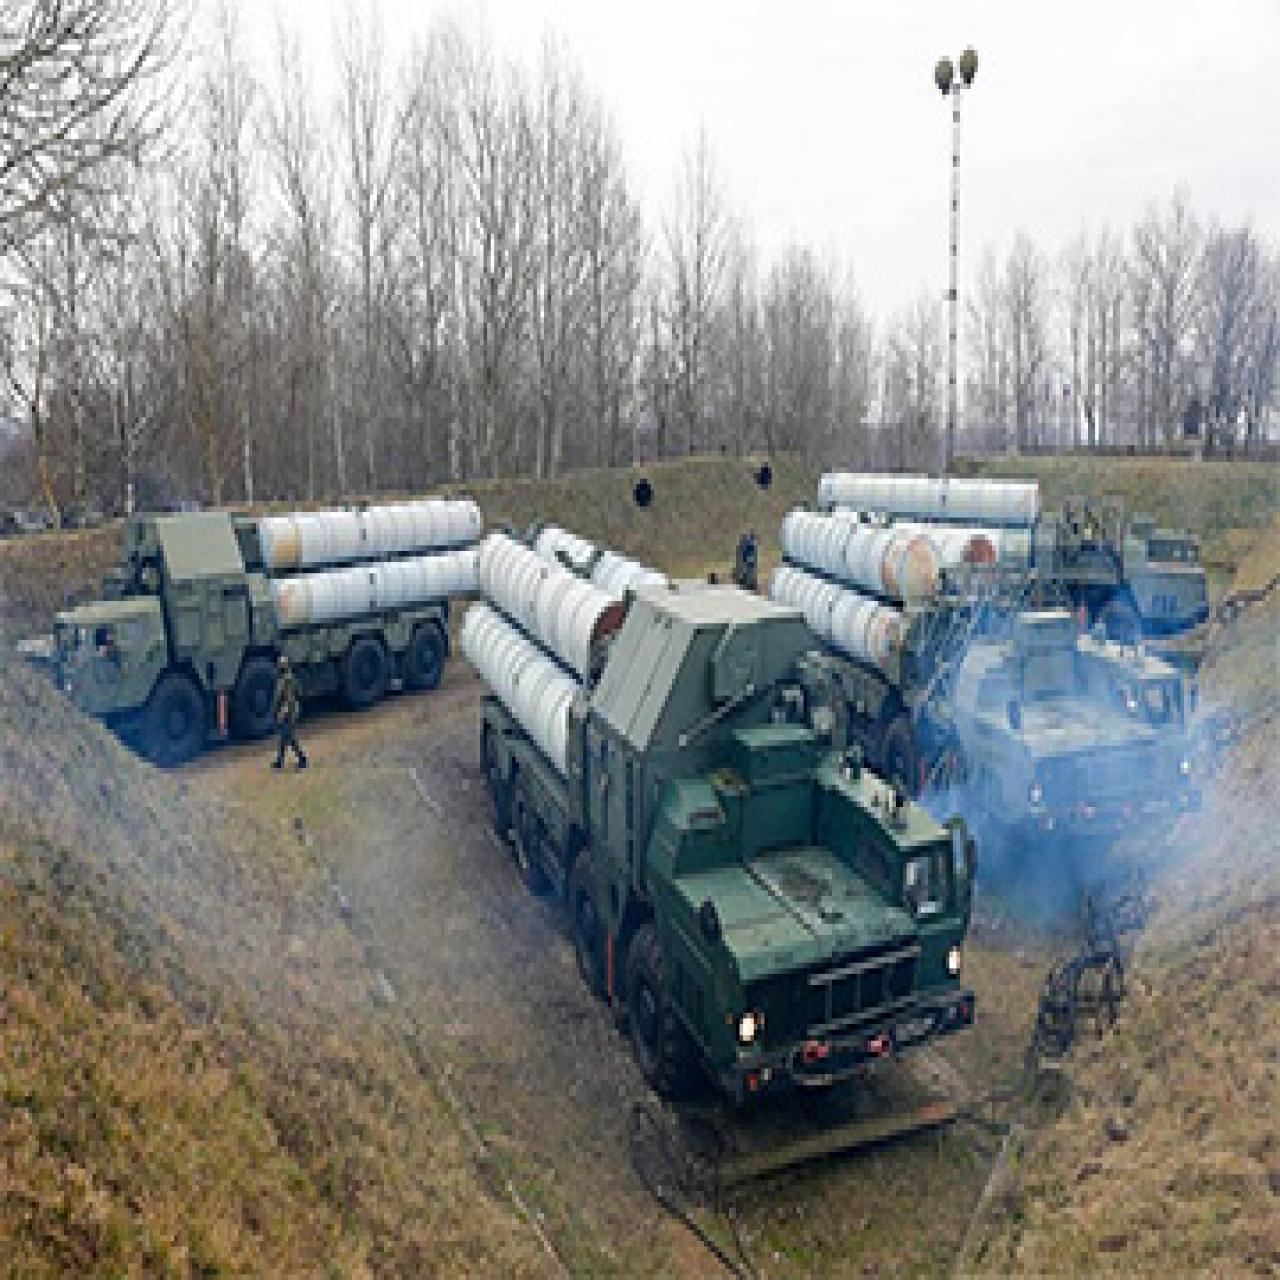MIL_Veh: (467, 526, 974, 1113), (783, 506, 1187, 869), (26, 495, 480, 756), (819, 465, 1215, 621)
